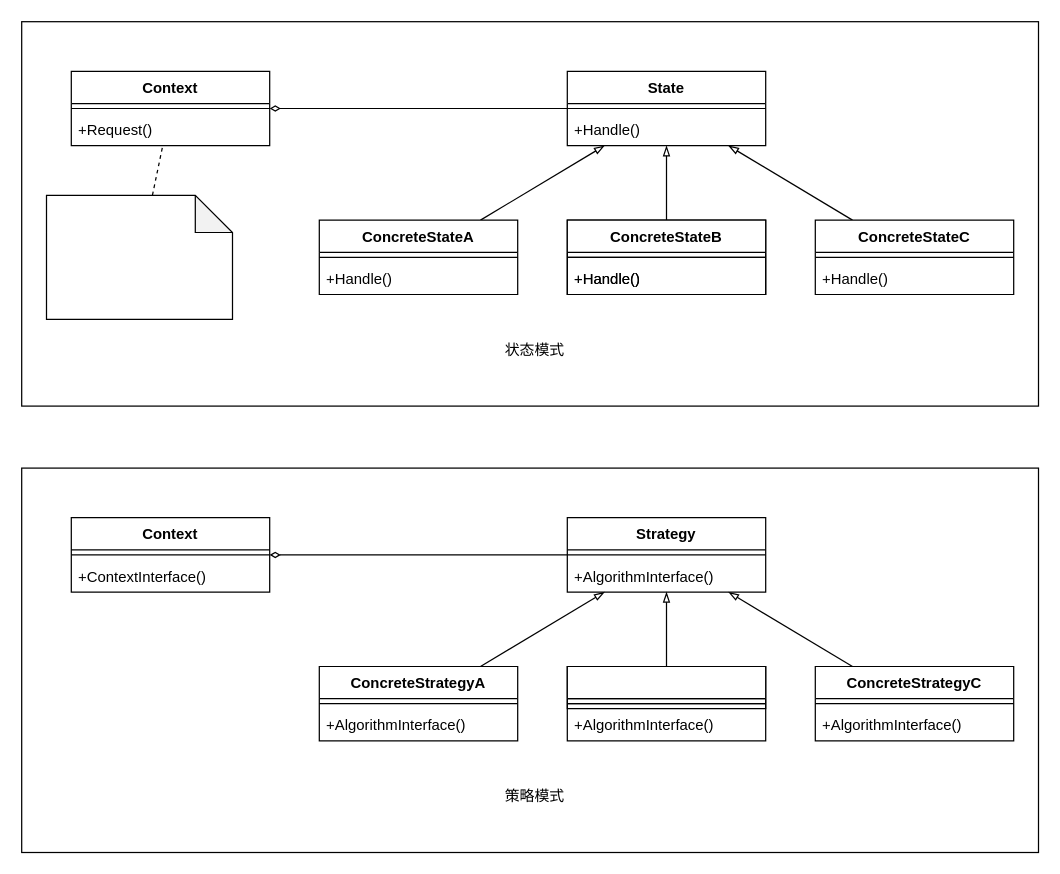
This 1060x874 diagram has some shape labels left out. Here are the shapes that lost their labels. From the top down, the centre of each, then its label:
At (138,256): "function Request(){ state.Handle(); }".
At (666,687): "ConcreteStrategyB".
